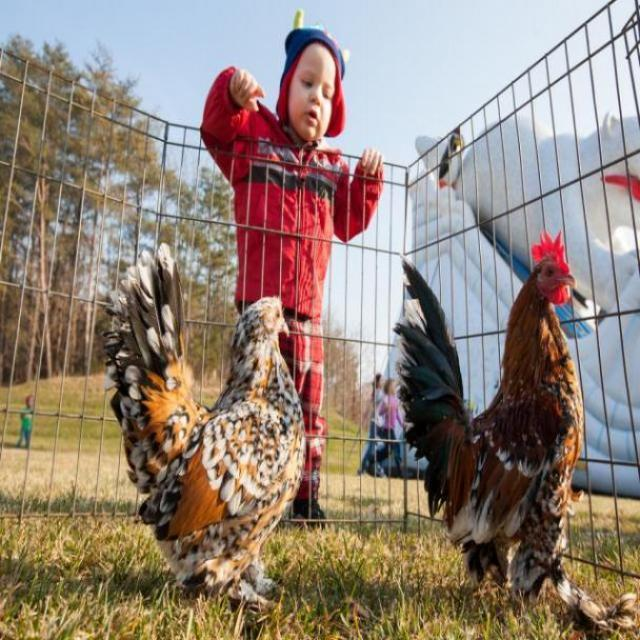Chicken: (394, 229, 584, 614), (111, 253, 311, 612)
